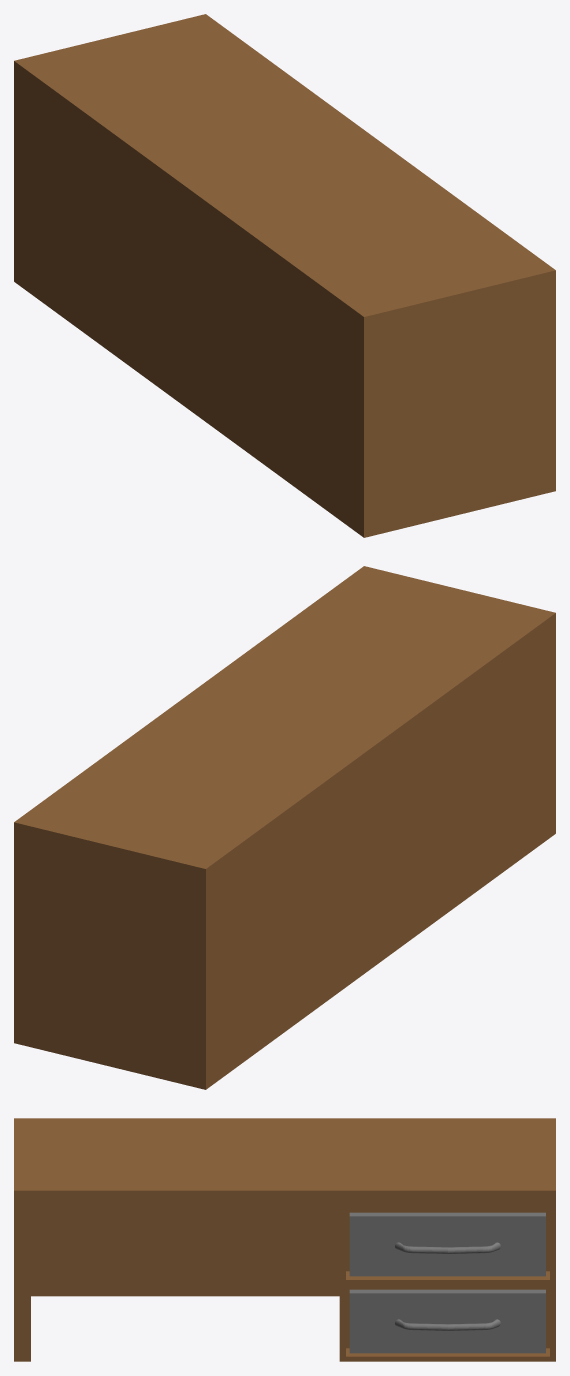
Rendered from TeacherTable.fbx.
3 renders of one model, top to bottom at view 1: azimuth 30°, elevation 25°; view 2: azimuth 150°, elevation 25°; view 3: azimuth 270°, elevation 25°, orthographic. The views are drawn at different scales.
Visible parts, largest first — view 1: TeacherTable.002; view 2: TeacherTable.002; view 3: TeacherTable.002.
Boxes of the visible parts, left/top/right/bottom form: TeacherTable.002: left=14, top=14, right=555, bottom=537; TeacherTable.002: left=14, top=566, right=555, bottom=1089; TeacherTable.002: left=14, top=1118, right=555, bottom=1361.
Size of the model in its own units: 0.8091 by 2.37 by 0.825.
